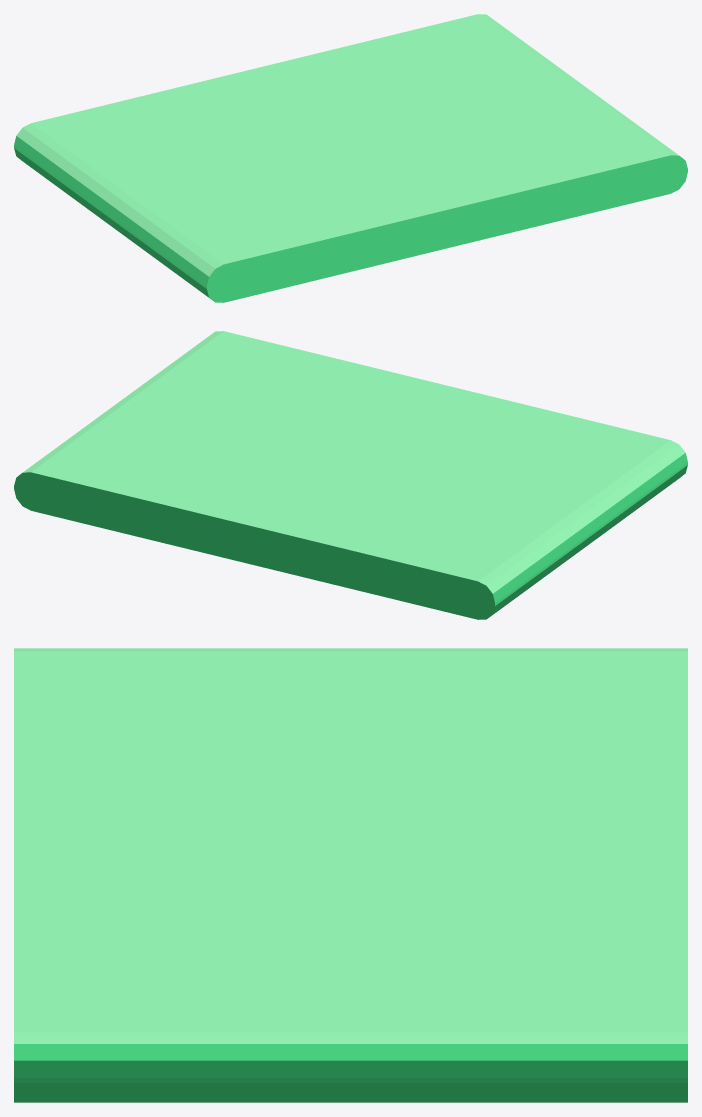
Rendered from Spring_Pad.gltf.
The picture shows the model from 3 angles, top to bottom: view 1: azimuth 30°, elevation 25°; view 2: azimuth 150°, elevation 25°; view 3: azimuth 270°, elevation 25°; orthographic projection. The views are drawn at different scales.
Visible parts, largest first — view 1: Spring_Pad_baked; view 2: Spring_Pad_baked; view 3: Spring_Pad_baked.
Boxes of the visible parts, box(x1,y1,x2,y2) form: Spring_Pad_baked: box(14, 14, 687, 302); Spring_Pad_baked: box(14, 331, 687, 619); Spring_Pad_baked: box(14, 648, 687, 1102).
Size of the model in its own units: 0.72 by 0.055 by 0.5.
